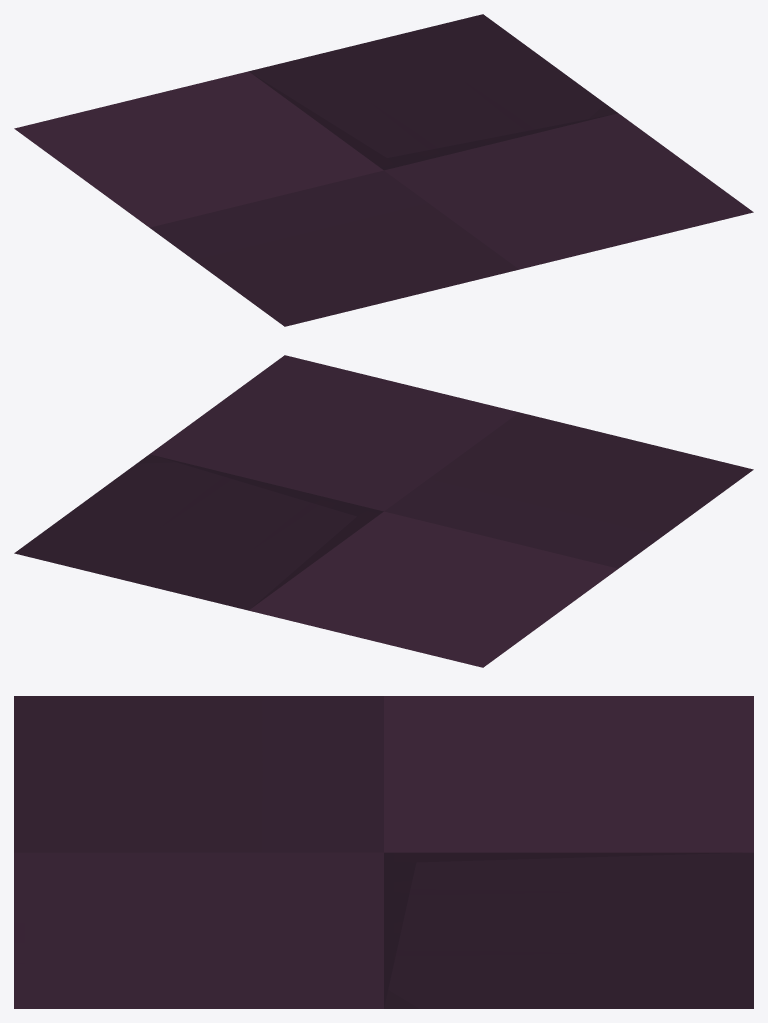
File: floor_tile_alt_2.fbx
The picture shows the model from 3 angles, top to bottom: view 1: azimuth 30°, elevation 25°; view 2: azimuth 150°, elevation 25°; view 3: azimuth 270°, elevation 25°; orthographic projection. The views are drawn at different scales.
Visible parts, largest first — view 1: floor_tile_alt_2; view 2: floor_tile_alt_2; view 3: floor_tile_alt_2.
Boxes of the visible parts, left/top/right/bottom form: floor_tile_alt_2: left=14, top=14, right=753, bottom=326; floor_tile_alt_2: left=14, top=355, right=753, bottom=667; floor_tile_alt_2: left=14, top=696, right=753, bottom=1008.
Bounding box in the file's own units: 200 × 4.44e-14 × 200.
